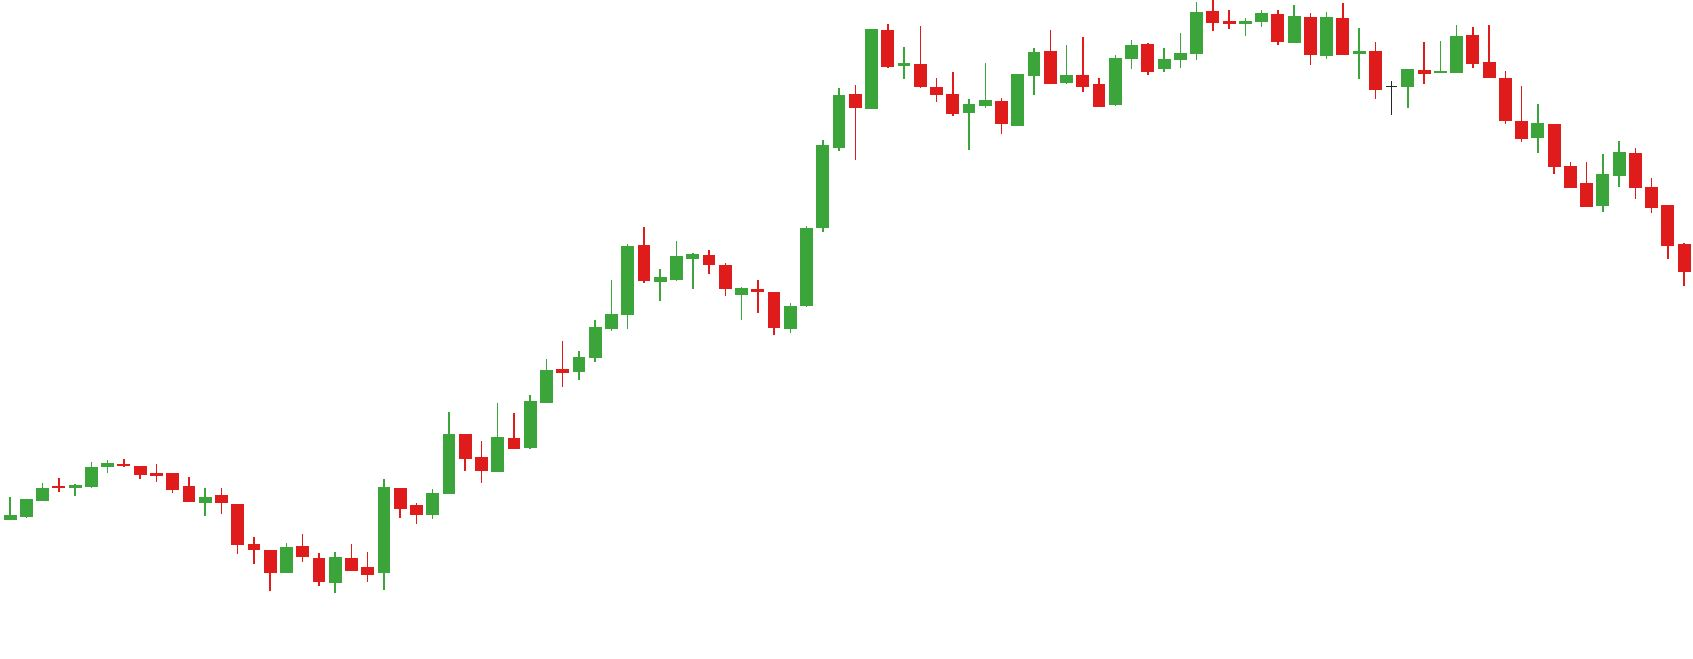buy: (259, 544, 343, 599)
